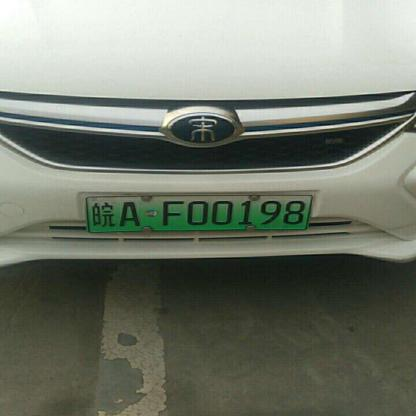lp: (87, 197, 311, 230)
